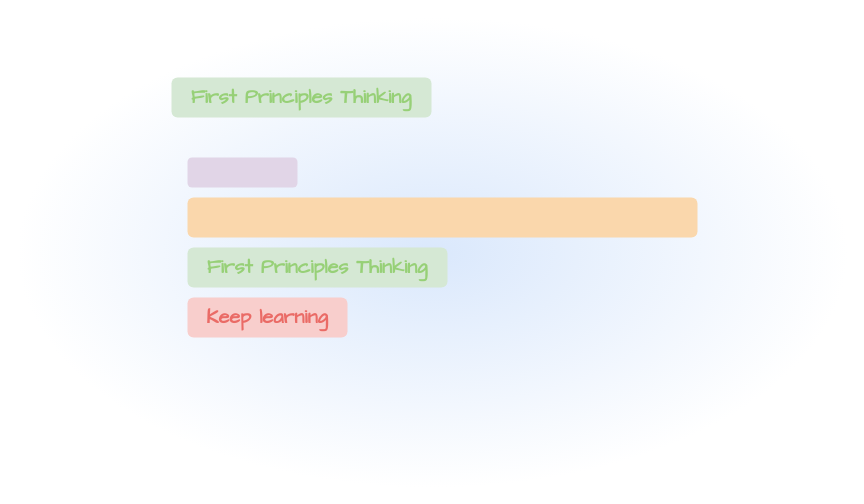
Image size: 864x504. Some labels were removed from this diagram. Here are the shapes that lost their labels. From the top down, the centre of each, then its label:
At point 242,172: "去芜存菁".
At point 442,217: "MECE(Mutually Exclusive, Collectively Exhaustive)".
